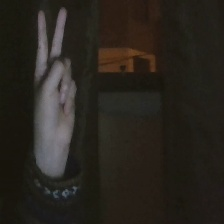V: (23, 3, 85, 156)
